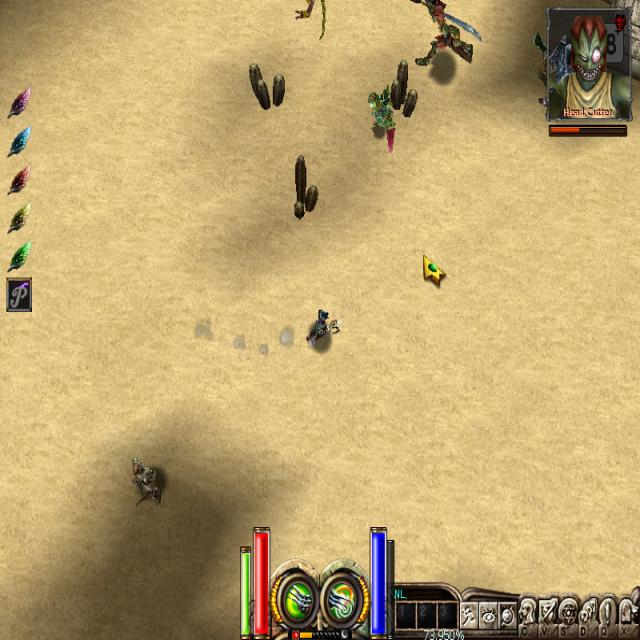monster: (95, 440, 197, 538), (343, 66, 429, 170)
